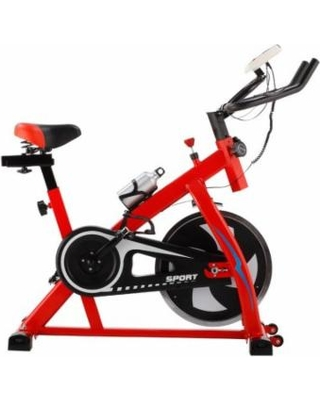gym_bike: (5, 41, 318, 357)
